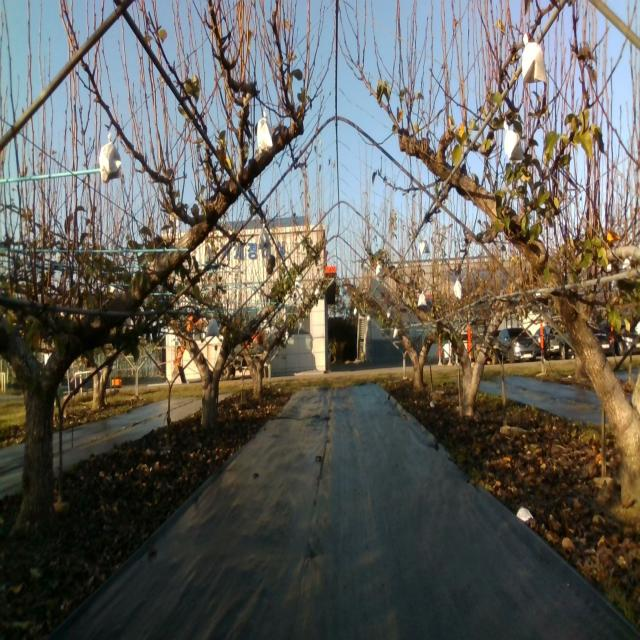pearbags: (521, 34, 548, 82), (98, 132, 122, 184), (257, 110, 275, 159), (503, 120, 525, 160), (207, 318, 220, 338), (259, 227, 271, 247)
